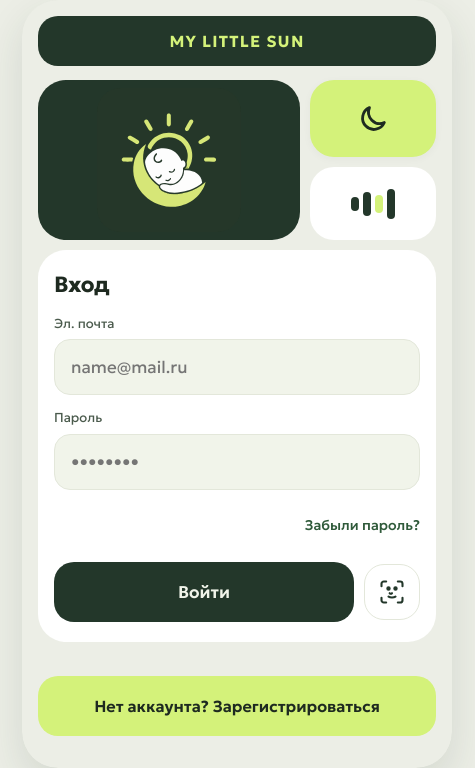
Test case: LoginPage Component › displays error banner when loginApi throws an error
Type "mama@mail.ru" into the field with test id "login-email-input" at (237,367), box [54,339,420,395]
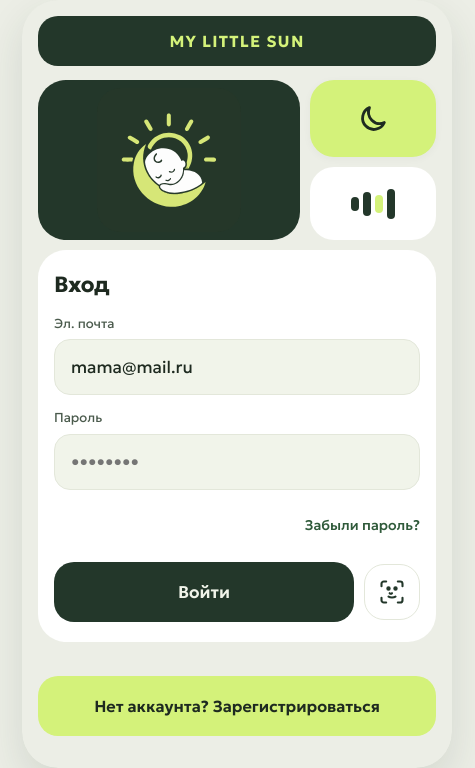
Type "password123" into the password field with test id "login-password-input" at (237,462), box [54,434,420,490]
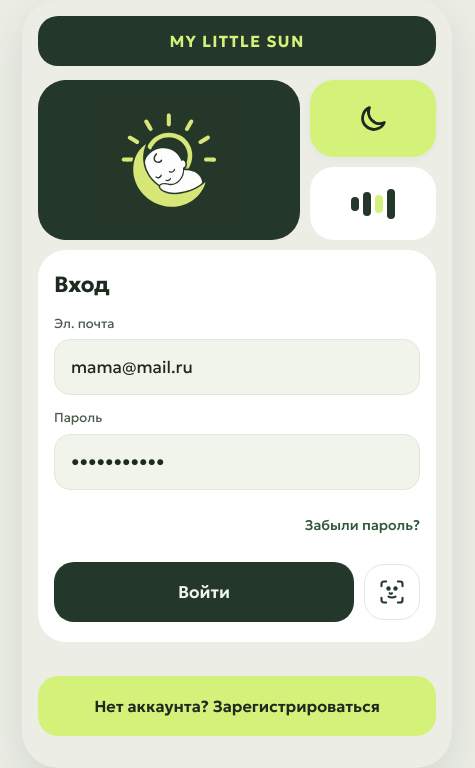
Click the button with test id "login-submit-btn" at (204,592), box [54,562,354,622]
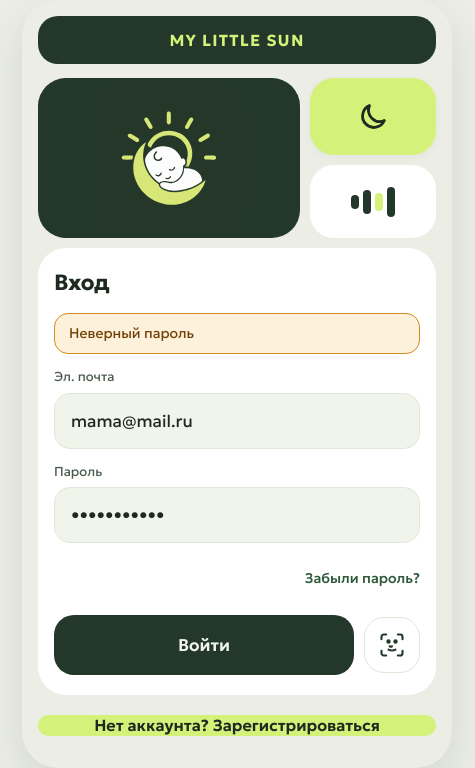
Result: the text with test id "login-error-banner" reads "Неверный пароль" at [69,324,194,342]
